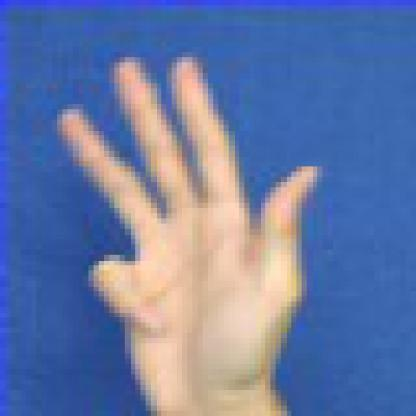nine: (26, 10, 369, 411)
